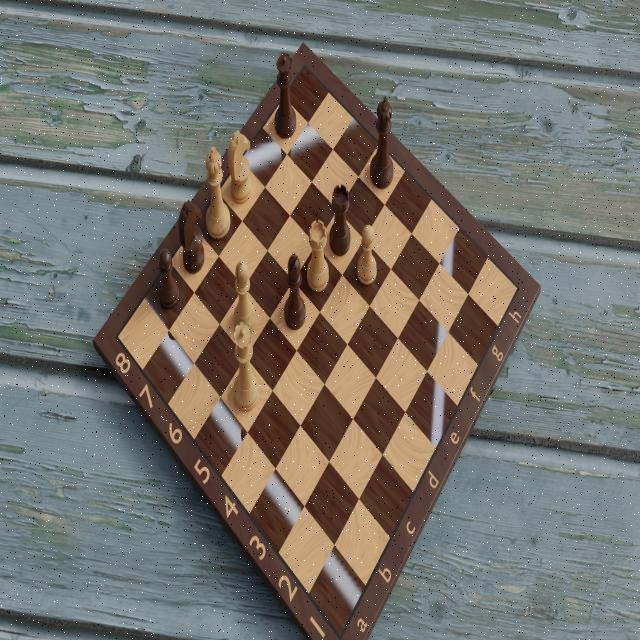black-bishop: (280, 248, 308, 332)
black-king: (367, 95, 396, 194)
black-knight: (178, 199, 206, 278)
black-pawn: (156, 242, 180, 314)
black-queen: (272, 49, 298, 143)
black-rook: (327, 182, 352, 261)
white-bishop: (231, 256, 258, 339)
white-king: (205, 142, 233, 245)
white-knight: (229, 126, 255, 206)
white-pawn: (356, 220, 382, 287)
white-queen: (230, 320, 261, 420)
white-rook: (304, 213, 332, 296)
